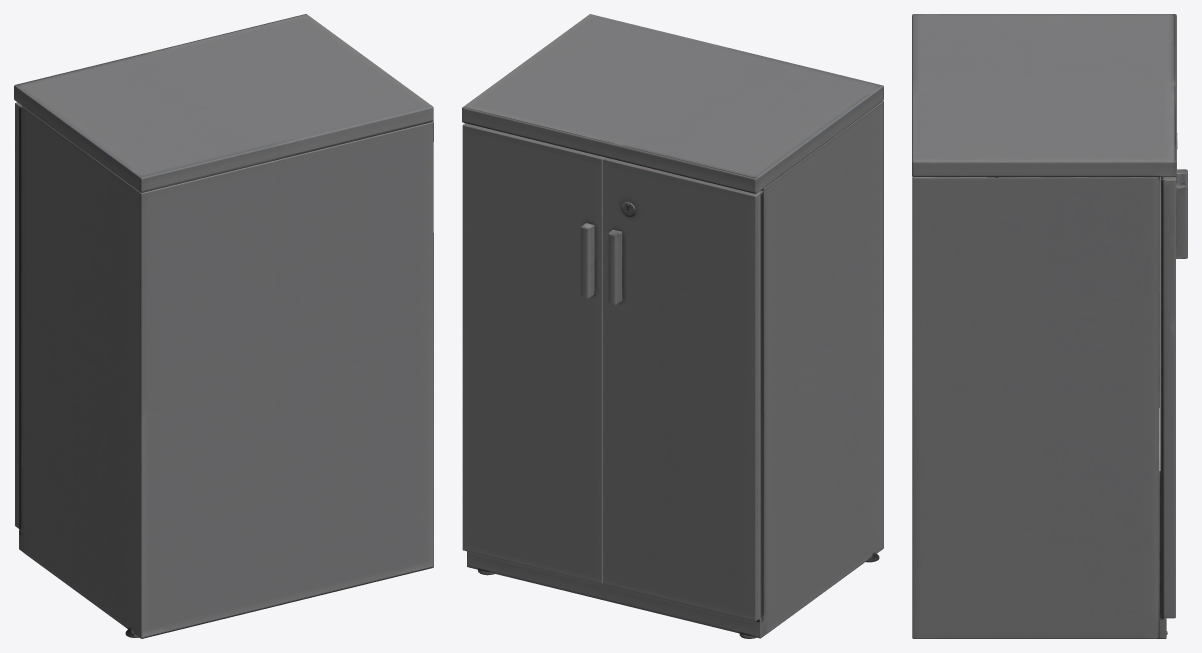
File: OparetionRoom_AI_Prop.018.fbx
3 renders of one model, left to right at view 1: azimuth 30°, elevation 25°; view 2: azimuth 150°, elevation 25°; view 3: azimuth 270°, elevation 25°, orthographic. The views are drawn at different scales.
Parts seen in each view (by area): view 1: OparetionRoom_AI_Prop.018; view 2: OparetionRoom_AI_Prop.018; view 3: OparetionRoom_AI_Prop.018.
Boxes of the visible parts, box(x1,y1,x2,y2) form: OparetionRoom_AI_Prop.018: box(14, 14, 433, 638); OparetionRoom_AI_Prop.018: box(462, 14, 883, 638); OparetionRoom_AI_Prop.018: box(912, 14, 1187, 638).
Size of the model in its own units: 97.62 by 146 by 75.78.
